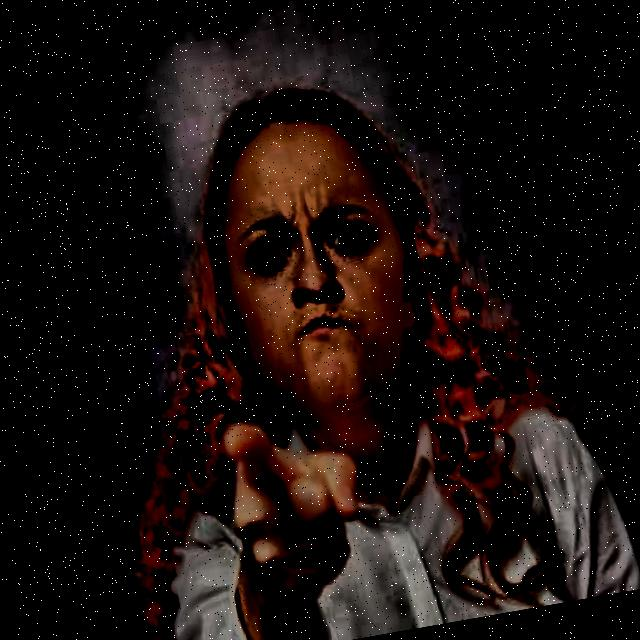angry: (193, 81, 443, 439)
